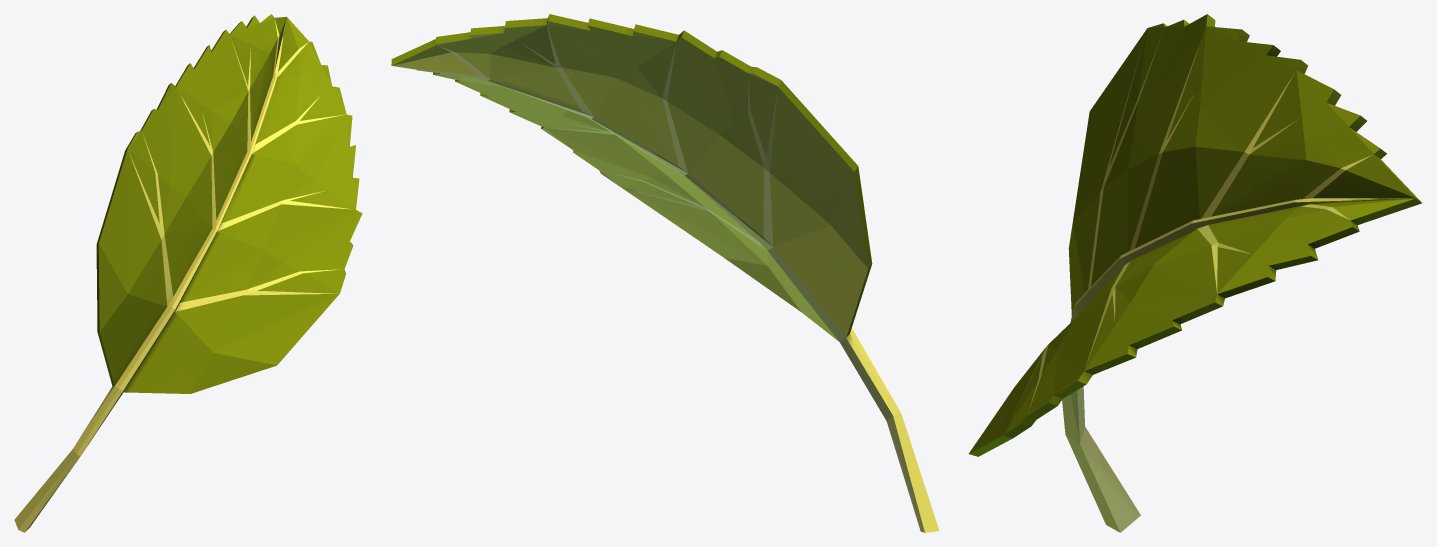
File: beech-harvest.glb
3 views of the same model, side by side, from view 1: azimuth 30°, elevation 25°; view 2: azimuth 150°, elevation 25°; view 3: azimuth 270°, elevation 25° (orthographic). The views are drawn at different scales.
Parts seen in each view (by area): view 1: leaf; view 2: leaf; view 3: leaf.
Part boxes in pixels (left/top/right/bottom): leaf: left=14, top=14, right=362, bottom=532; leaf: left=391, top=14, right=939, bottom=532; leaf: left=968, top=14, right=1421, bottom=532.
Bounding box in the file's own units: 0.964 × 1 × 0.6046.
1 material, 1 textured.
